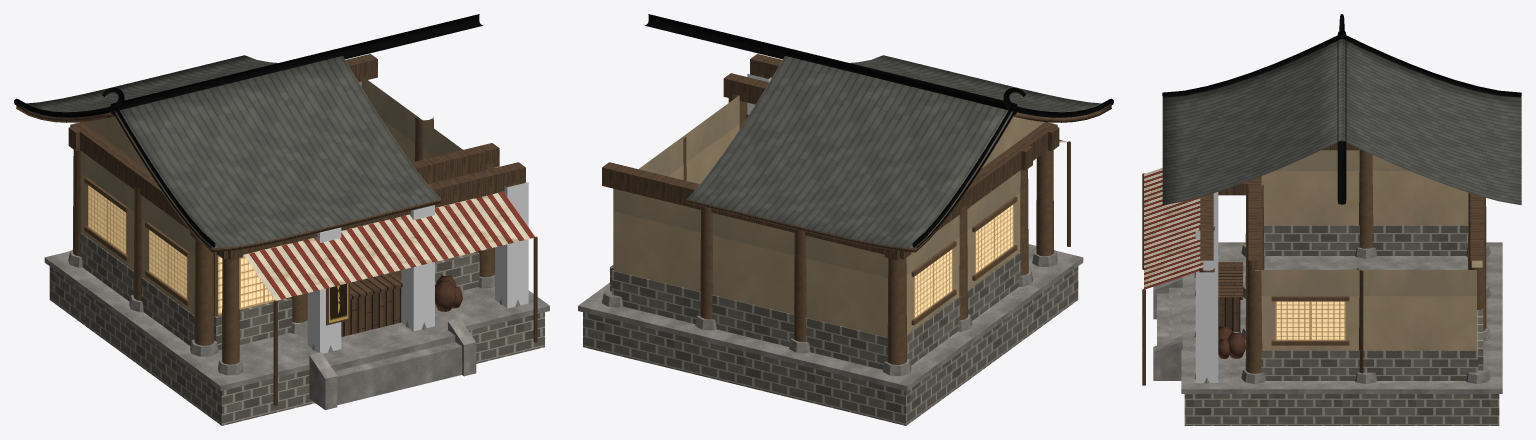
The model's file is ghost_house.glb.
3 renders of one model, left to right at view 1: azimuth 30°, elevation 25°; view 2: azimuth 150°, elevation 25°; view 3: azimuth 270°, elevation 25°, orthographic. The views are drawn at different scales.
Parts seen in each view (by area): view 1: Shop17Roof, Awning, Shop17PodiumBase, Shop17PodiumCap, Shop17Beams, Shop17Columns, Shop17Walls, Shop17Dado, Shop17Stairsfront, Shop17RoofRidge, Shop17Lattice, Counter (+10 smaller); view 2: Shop17Roof, Shop17Walls, Shop17PodiumBase, Shop17Dado, Shop17PodiumCap, Shop17Columns, Shop17Beams, Shop17RoofRidge, Shop17Lattice, Shop17ColumnBases, Shop17Frames, Shop17Gables; view 3: Shop17Roof, Shop17Walls, Shop17Dado, Shop17PodiumCap, Shop17PodiumBase, Shop17Columns, Awning, Shop17Beams, Shop17RoofRidge, Shop17Lattice, Shop17VCol-convcolonly.003, Counter (+7 smaller).
Boxes of the visible parts, x1,y1,x2,y2 form: Shop17Roof: (16,55,441,252); Awning: (243,191,535,300); Shop17PodiumBase: (49,266,544,425); Shop17PodiumCap: (44,251,549,391); Shop17Beams: (68,54,525,260); Shop17Columns: (73,117,518,364); Shop17Walls: (81,76,475,315); Shop17Dado: (80,232,479,349); Shop17Stairsfront: (327,330,461,405); Shop17RoofRidge: (14,14,482,248); Shop17Lattice: (88,185,473,314); Counter: (341,272,402,336); Shop17Roof: (686,55,1111,252); Shop17Walls: (613,95,1020,337); Shop17PodiumBase: (583,266,1078,425); Shop17Dado: (610,252,1021,369); Shop17PodiumCap: (578,244,1083,391); Shop17Columns: (683,74,1053,364); Shop17Beams: (602,54,1059,260); Shop17RoofRidge: (645,14,1113,248); Shop17Lattice: (914,204,1013,318); Shop17ColumnBases: (602,250,1057,375); Shop17Frames: (746,114,1017,325); Shop17Gables: (982,116,1044,167); Shop17Roof: (1162,38,1521,205); Shop17Walls: (1255,150,1482,350); Shop17Dado: (1261,225,1483,380); Shop17PodiumCap: (1181,242,1502,393); Shop17PodiumBase: (1184,394,1499,425); Shop17Columns: (1199,149,1486,373); Awning: (1144,168,1203,289); Shop17Beams: (1200,142,1483,260); Shop17RoofRidge: (1162,14,1521,204); Shop17Lattice: (1275,301,1345,340); Shop17VCol-convcolonly.003: (1195,272,1218,382); Counter: (1218,262,1242,331).
Size of what is drawn, in the model's own units: 10.81 by 7.63 by 10.26.
Materials: 15 (14 with a texture image).
